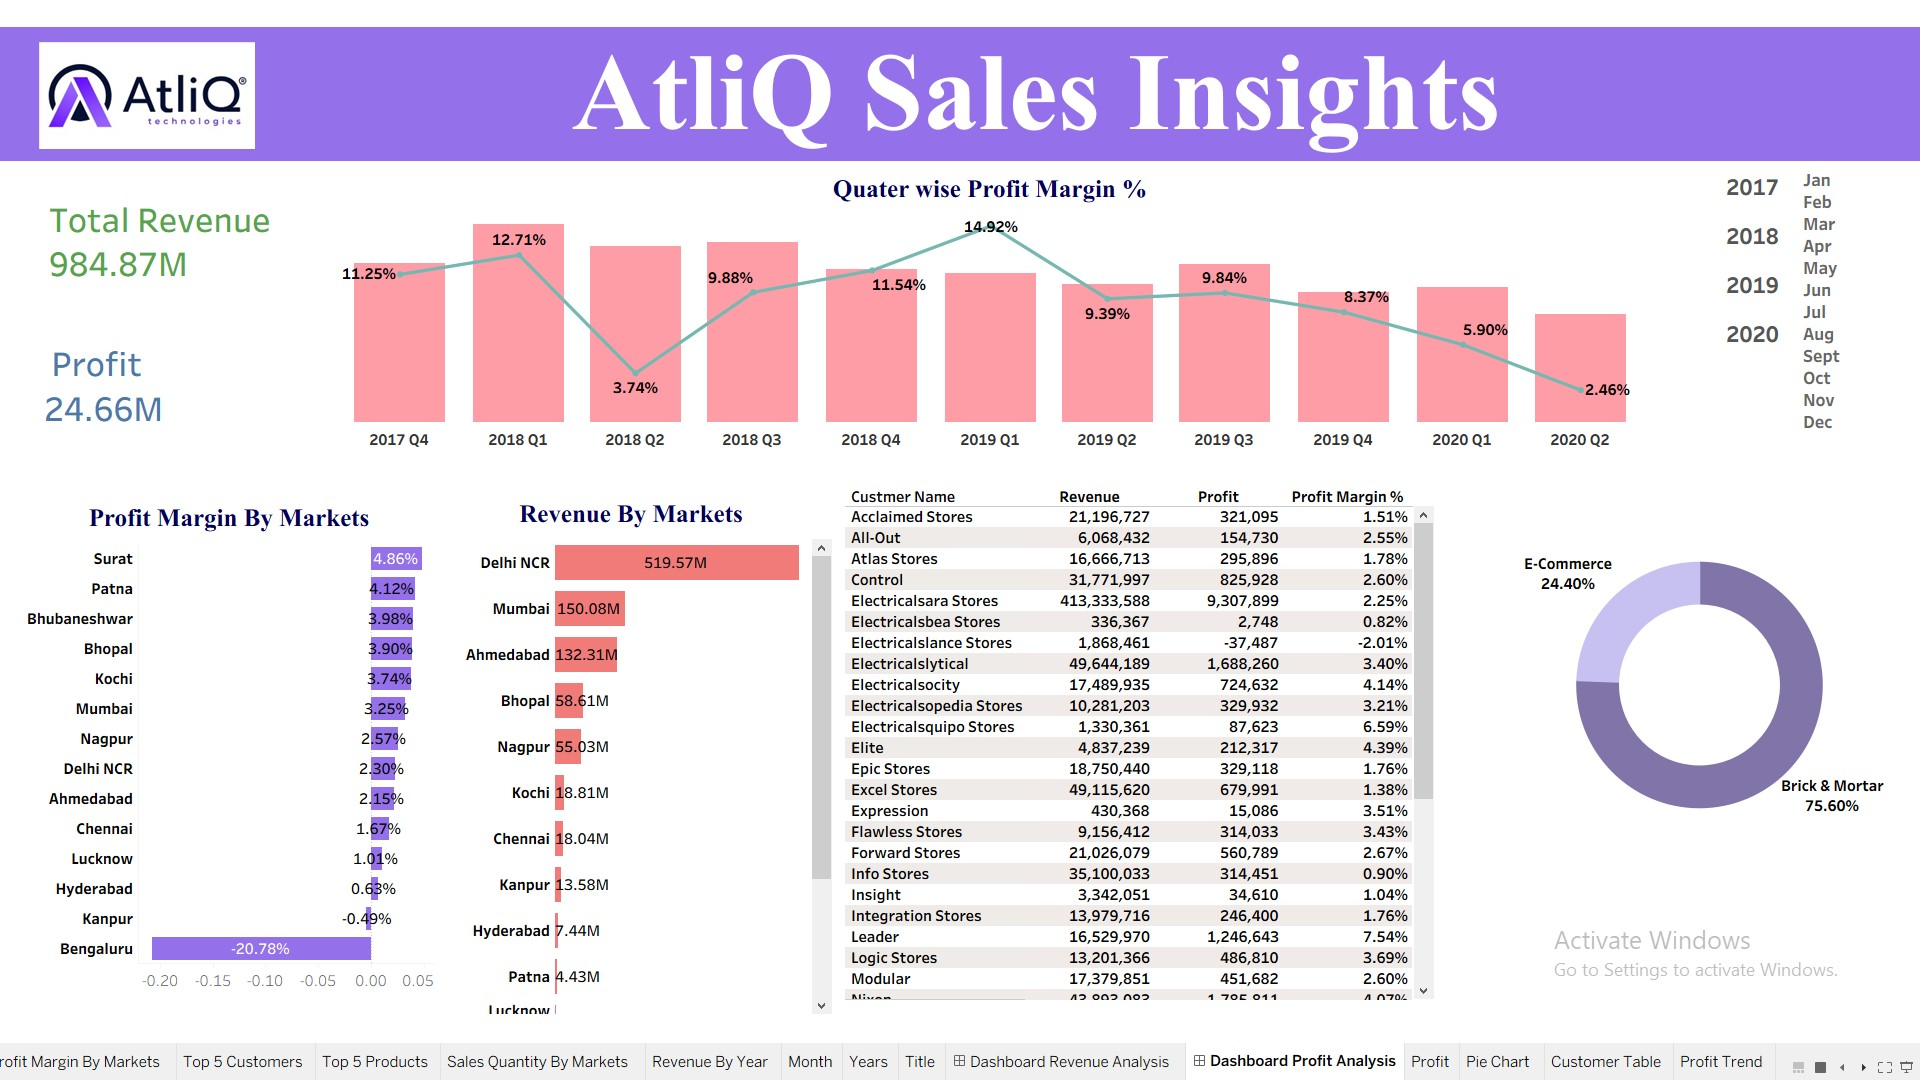

The page's visual inventory and layout, read from the dashboard file:
{"tool":"tableau","page":{"name":"Dashboard Profit Analysis","canvas":[1880,1000],"ordinal":0},"visuals":[{"type":"image","param":"C:/Users/win10/Desktop/AtliQ.jpg","box":[19,21,223,107]},{"type":"worksheet","title":"Years","mark":"Automatic","rows":["cy_date"],"box":[1684,141,97,217]},{"type":"worksheet","title":"Month","mark":"Automatic","rows":["cy_date"],"box":[1777,147,79,281]},{"type":"worksheet","title":"Profit Trend","mark":"Automatic","rows":["Calculation_266838308006653952"],"cols":["cy_date"],"box":[275,150,1390,281]},{"type":"worksheet","title":"Revenue","mark":"Automatic","box":[25,160,275,127]},{"type":"worksheet","title":"Profit","mark":"Automatic","box":[13,303,238,127]},{"type":"worksheet","title":"Customer Table","mark":"Automatic","rows":["custmer_name"],"box":[825,465,599,514]},{"type":"worksheet","title":"Revenue By Markets","mark":"Automatic","rows":["markets_name"],"cols":["Calculation_266838308006653952"],"box":[431,475,381,518]},{"type":"worksheet","title":"Pie Chart ","mark":"Pie","rows":["Calculation_431501170129592323","Calculation_431501170129887237"],"box":[1494,531,376,266]}]}

Visuals, with their boxes on the page's 1880x1000 design canvas (x1, y1, x2, y2). These are canvas units, not pixel positions in the 1920x1080 screenshot, which may show the page scaled, cropped or inside an application window:
image: [x1=19, y1=21, x2=242, y2=128]
"Years" worksheet: [x1=1684, y1=141, x2=1781, y2=358]
"Month" worksheet: [x1=1777, y1=147, x2=1856, y2=428]
"Profit Trend" worksheet: [x1=275, y1=150, x2=1665, y2=431]
"Revenue" worksheet: [x1=25, y1=160, x2=300, y2=287]
"Profit" worksheet: [x1=13, y1=303, x2=251, y2=430]
"Customer Table" worksheet: [x1=825, y1=465, x2=1424, y2=979]
"Revenue By Markets" worksheet: [x1=431, y1=475, x2=812, y2=993]
"Pie Chart " worksheet (Pie marks): [x1=1494, y1=531, x2=1870, y2=797]
